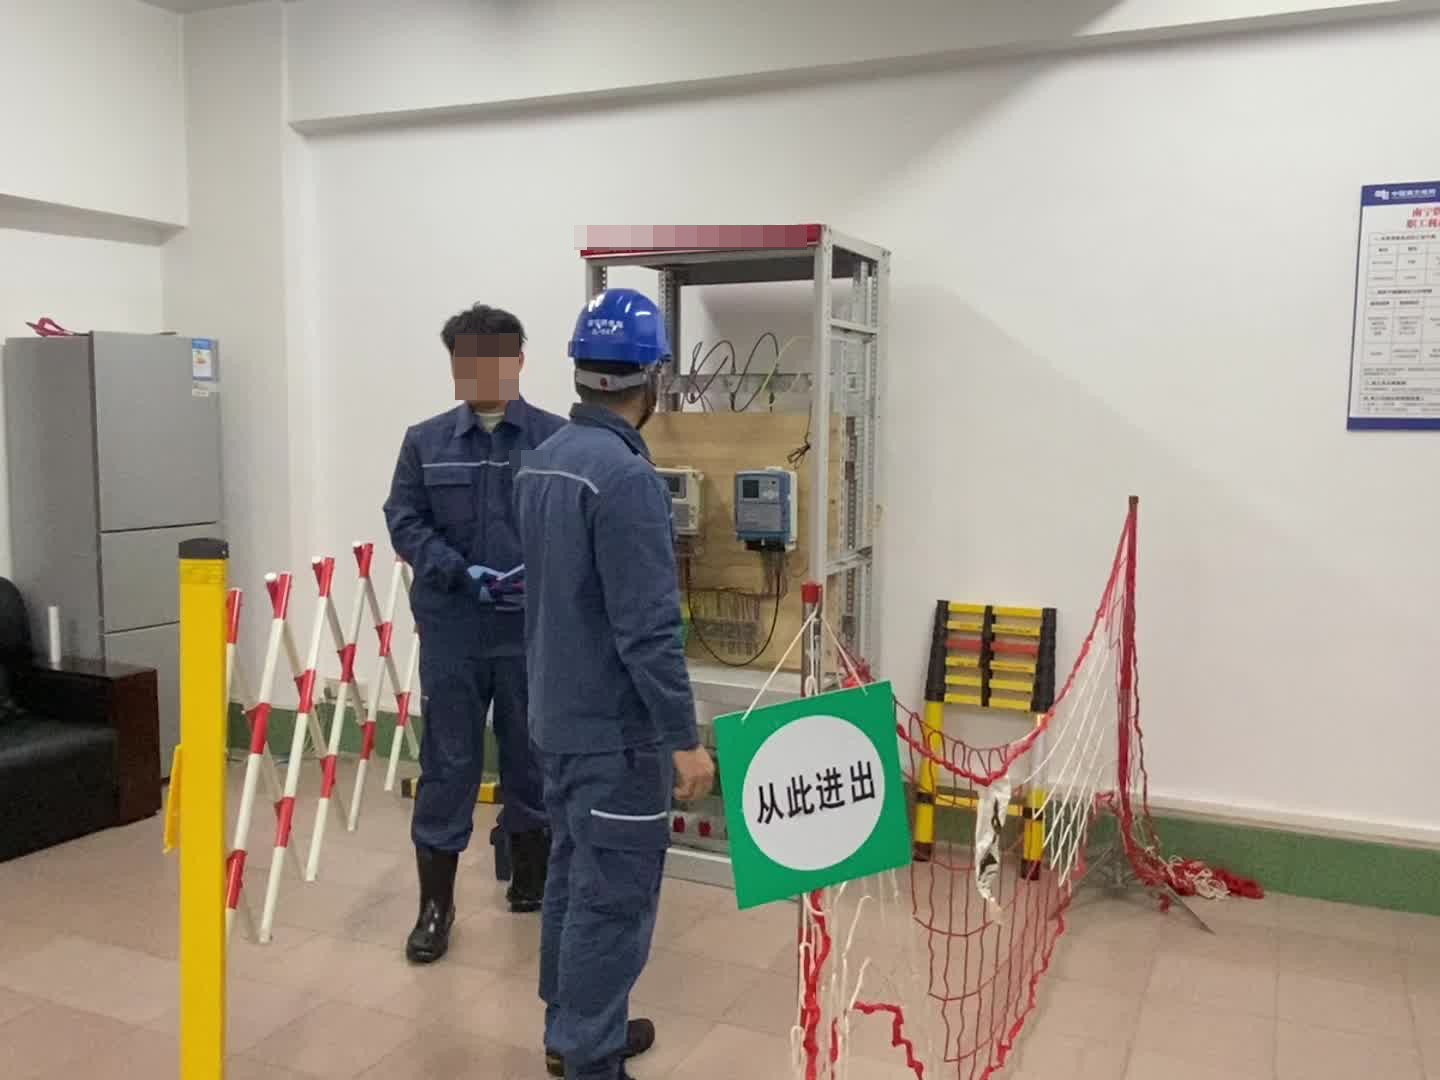downsuit: (530, 754, 674, 1070), (407, 620, 550, 835)
glove: (462, 560, 523, 613)
halt: (565, 284, 675, 421)
hand: (672, 745, 715, 798)
inear: (640, 366, 672, 410)
intosign: (708, 668, 915, 910)
noear: (506, 343, 533, 379)
person: (494, 282, 710, 1080), (387, 300, 562, 978)
shoe: (405, 842, 462, 963), (505, 827, 557, 913)
unhalt: (438, 305, 532, 413)
upsuit: (517, 417, 697, 748), (388, 408, 548, 650)
